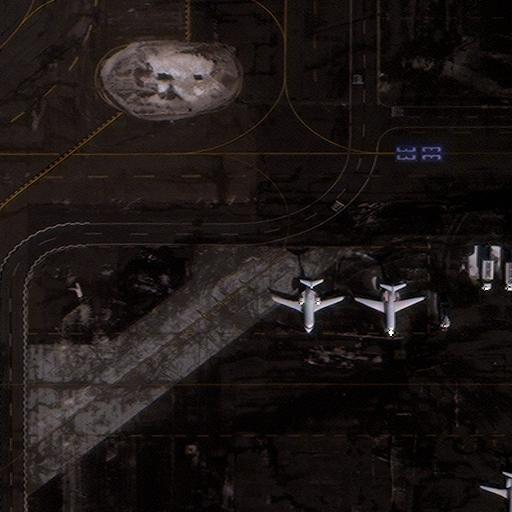Medium Civil Transport: (271, 280, 345, 332), (354, 285, 424, 336), (480, 475, 512, 512)
